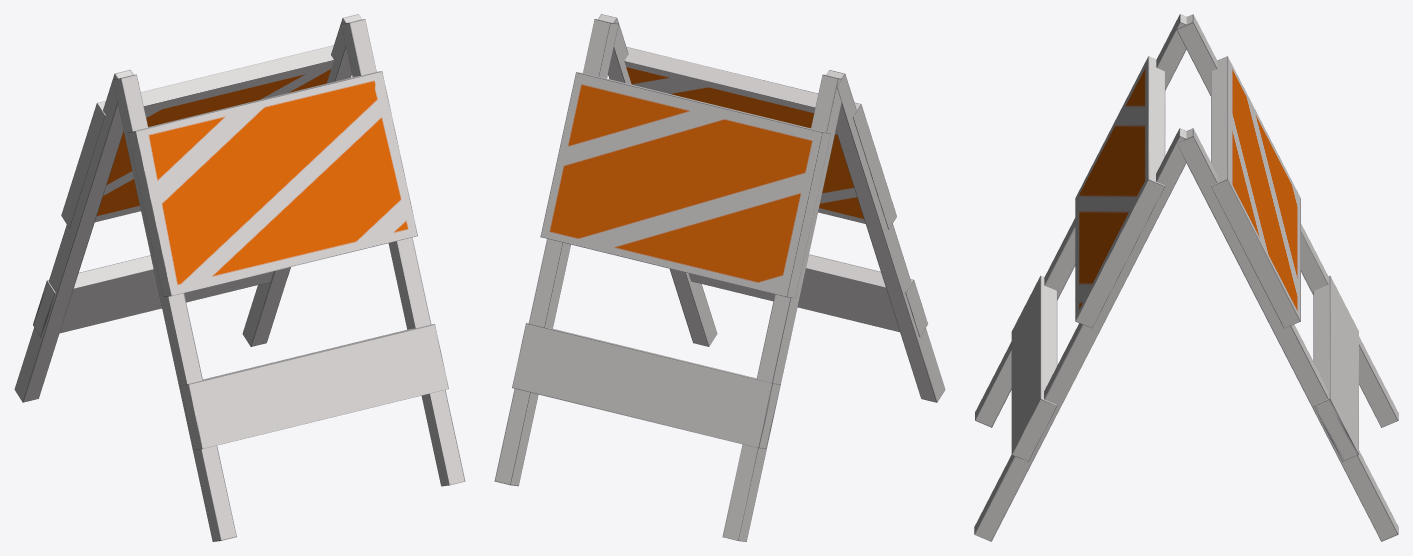
File: RoadBlock_1.fbx
The picture shows the model from 3 angles, left to right: view 1: azimuth 30°, elevation 25°; view 2: azimuth 150°, elevation 25°; view 3: azimuth 270°, elevation 25°; orthographic projection. The views are drawn at different scales.
Visible parts, largest first — view 1: pasted__pCube1, pasted__pasted__pCube3 (×3), pasted__pCube2, pasted__pasted__pCube1, pasted__pasted__pCube2, pasted__pCube3; view 2: pasted__pasted__pCube1, pasted__pasted__pCube2, pasted__pasted__pCube3 (×3), pasted__pCube1, pasted__pCube2, pasted__pCube3; view 3: pasted__pasted__pCube3 (×3), pasted__pCube1, pasted__pasted__pCube1, pasted__pCube3, pasted__pCube2, pasted__pasted__pCube2.
Boxes of the visible parts, x1,y1,x2,y2 form: pasted__pCube1: (127, 71, 417, 296); pasted__pasted__pCube3 (×3): (14, 19, 465, 541); pasted__pCube2: (180, 324, 448, 449); pasted__pasted__pCube1: (61, 45, 333, 228); pasted__pasted__pCube2: (33, 255, 290, 337); pasted__pCube3: (242, 14, 361, 346); pasted__pasted__pCube1: (540, 72, 830, 298); pasted__pasted__pCube2: (512, 323, 780, 449); pasted__pasted__pCube3 (×3): (598, 14, 945, 541); pasted__pCube1: (624, 46, 896, 229); pasted__pCube2: (688, 254, 927, 336); pasted__pCube3: (494, 19, 618, 486); pasted__pasted__pCube3 (×3): (974, 14, 1398, 541); pasted__pCube1: (1075, 56, 1165, 328); pasted__pasted__pCube1: (1211, 56, 1300, 328); pasted__pCube3: (1177, 128, 1398, 541); pasted__pCube2: (1011, 275, 1057, 461); pasted__pasted__pCube2: (1313, 276, 1358, 461).
Size of the model in its own units: 107 by 164 by 156.
Materials: 1 (1 with a texture image).
